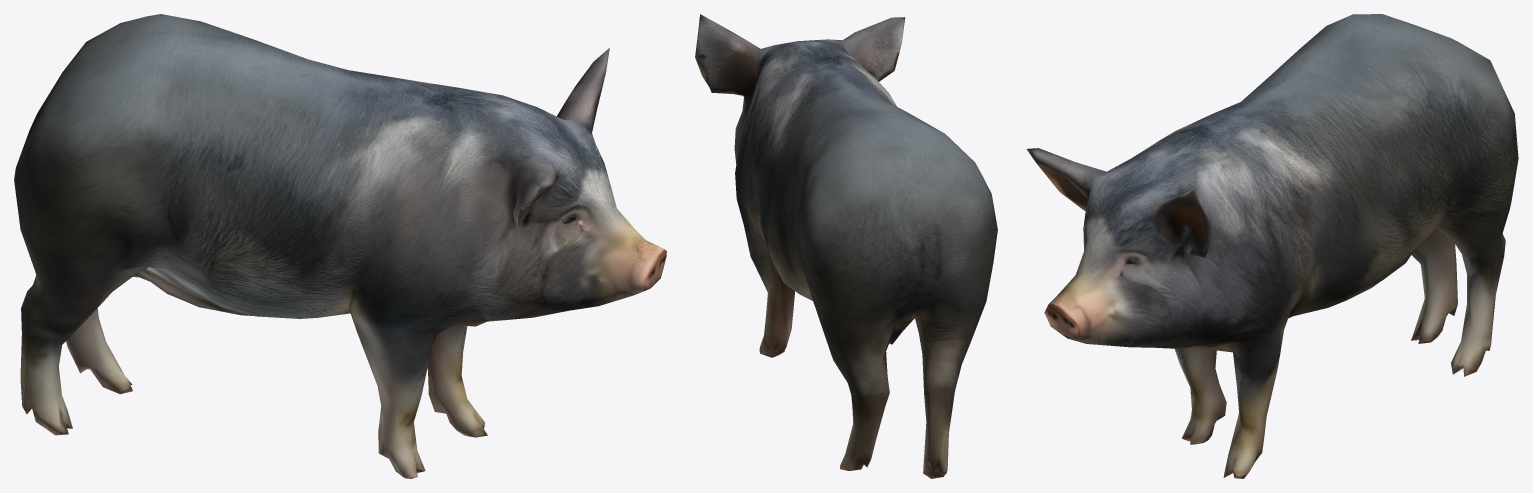
The model's file is pig_cold_single_1500.glb.
The picture shows the model from 3 angles, left to right: view 1: azimuth 30°, elevation 25°; view 2: azimuth 150°, elevation 25°; view 3: azimuth 270°, elevation 25°; orthographic projection. The views are drawn at different scales.
Size of the model in its own units: 0.8434 by 0.6912 by 0.863.
Materials: 1 (1 with a texture image).
